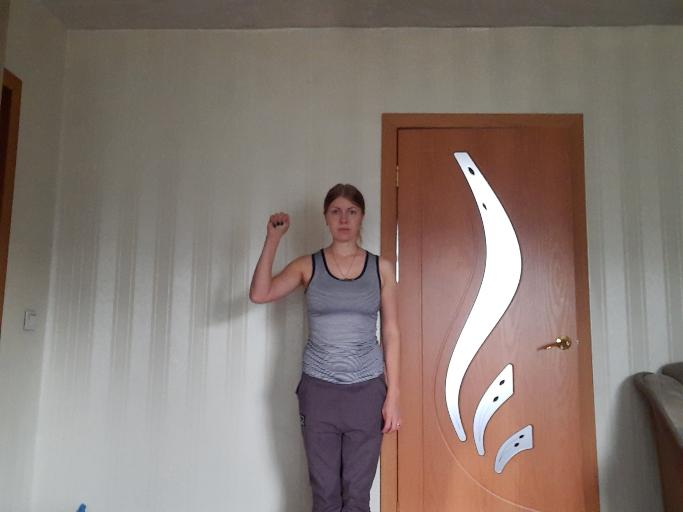fist: (264, 210, 291, 237)
no_gesture: (379, 392, 405, 435)
